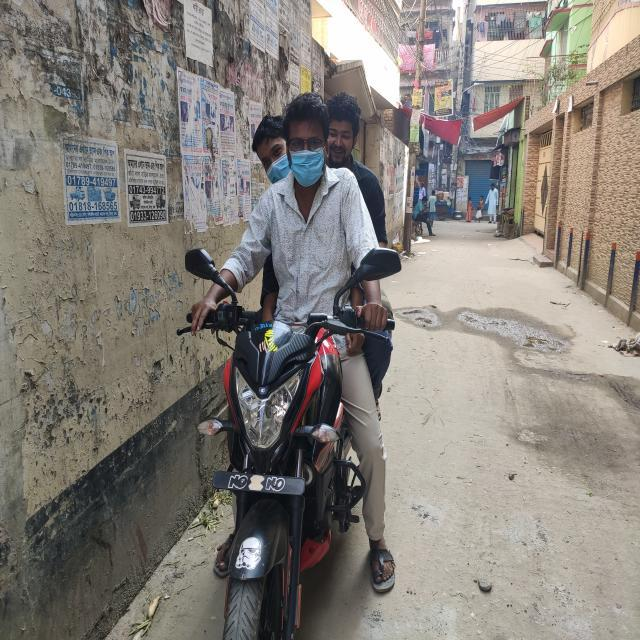Overloading: (152, 47, 474, 632)
